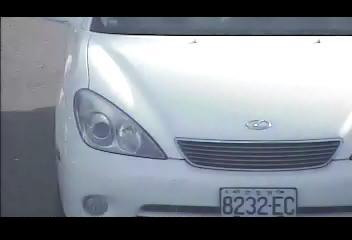plate: (218, 187, 298, 219)
